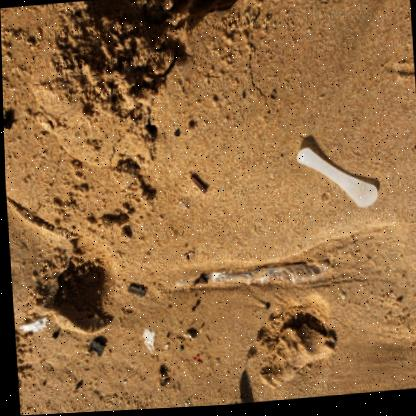Plastic: (295, 151, 375, 211), (174, 266, 325, 287), (15, 316, 44, 332), (139, 329, 152, 354)
Waste: (161, 345, 165, 351), (192, 356, 195, 363)
